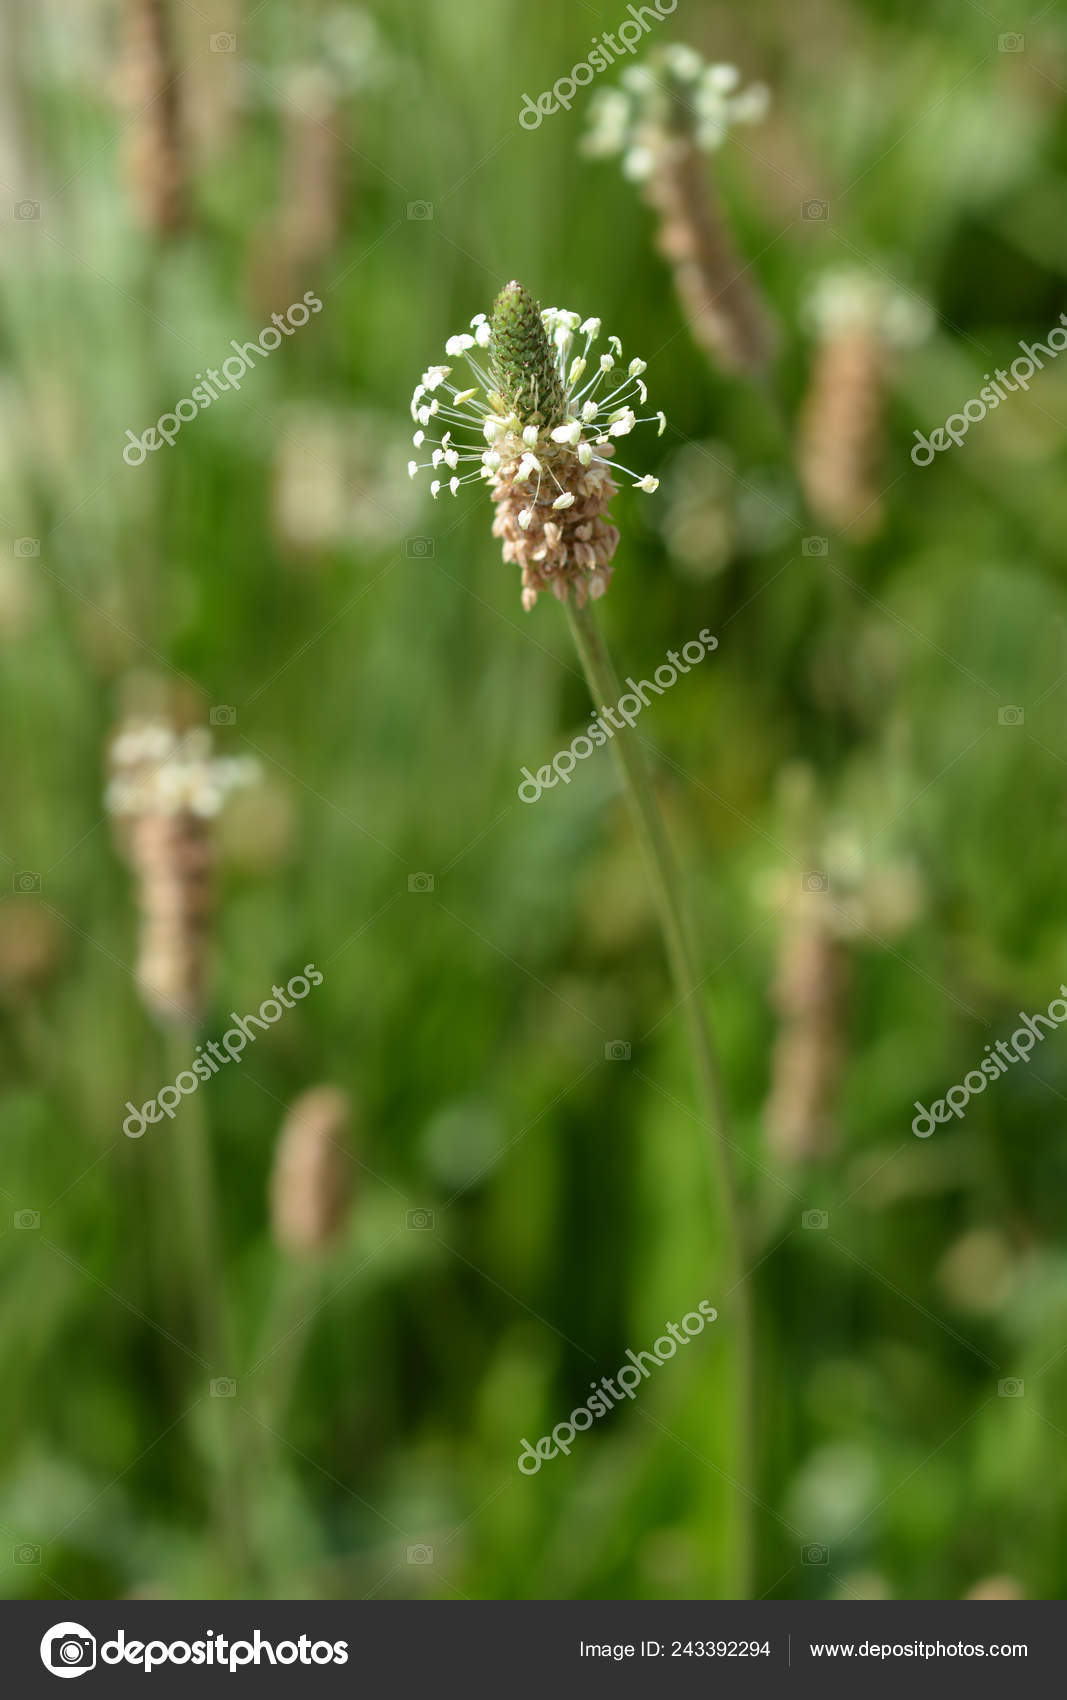buckhorn plantain: (361, 227, 778, 969)
